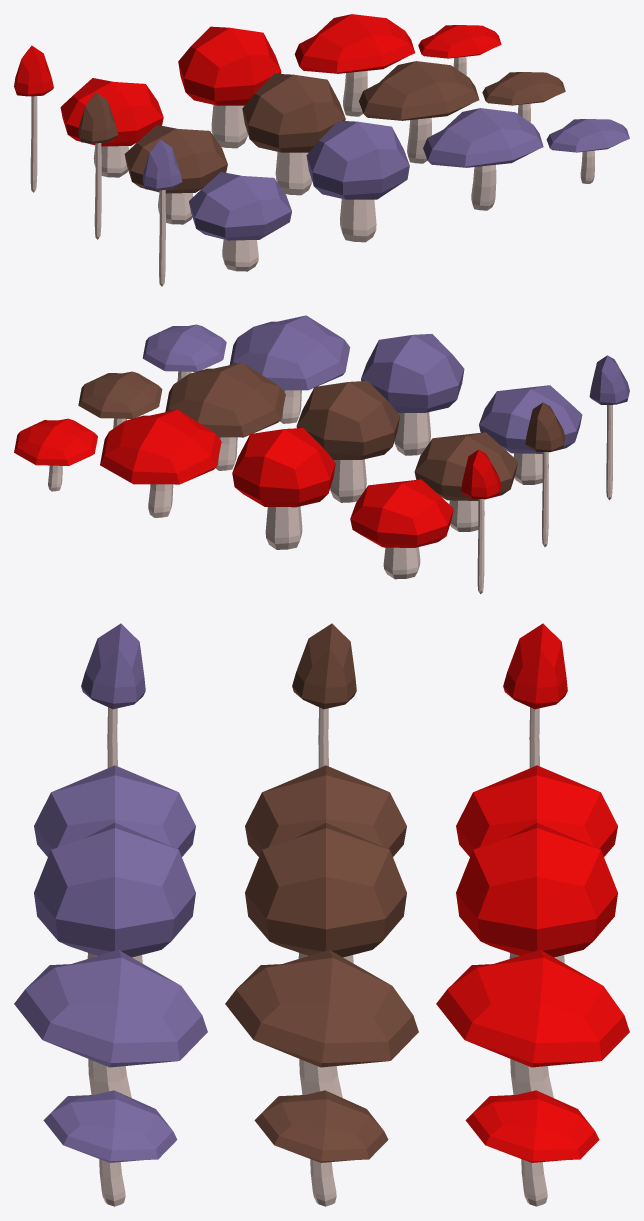
The model's file is MUSH_ALL.fbx.
The picture shows the model from 3 angles, top to bottom: view 1: azimuth 30°, elevation 25°; view 2: azimuth 150°, elevation 25°; view 3: azimuth 270°, elevation 25°; orthographic projection. The views are drawn at different scales.
Visible parts, largest first — view 1: pCube17 (×9), pCube20 (×3), pCube15 (×3), pCube18 (×7), pCube19 (×3), pCube16 (×3); view 2: pCube17 (×9), pCube20 (×3), pCube15 (×3), pCube19 (×3), pCube18 (×6), pCube16 (×3); view 3: pCube17 (×9), pCube20 (×3), pCube15 (×3), pCube18 (×6).
Boxes of the visible parts, <box> form: pCube17 (×9): <box>14,14,629,190</box>; pCube20 (×3): <box>178,26,409,199</box>; pCube15 (×3): <box>60,78,291,240</box>; pCube18 (×7): <box>30,71,594,286</box>; pCube19 (×3): <box>211,105,376,242</box>; pCube16 (×3): <box>93,146,258,271</box>; pCube17 (×9): <box>14,315,629,498</box>; pCube20 (×3): <box>232,334,464,507</box>; pCube15 (×3): <box>350,385,582,547</box>; pCube19 (×3): <box>265,412,430,549</box>; pCube18 (×6): <box>148,390,612,594</box>; pCube16 (×3): <box>383,453,548,579</box>; pCube17 (×9): <box>14,623,629,1162</box>; pCube20 (×3): <box>34,823,617,957</box>; pCube15 (×3): <box>34,765,617,856</box>; pCube18 (×6): <box>88,1059,553,1206</box>.
Size of the model in its own units: 73.75 by 21.36 by 49.62.
